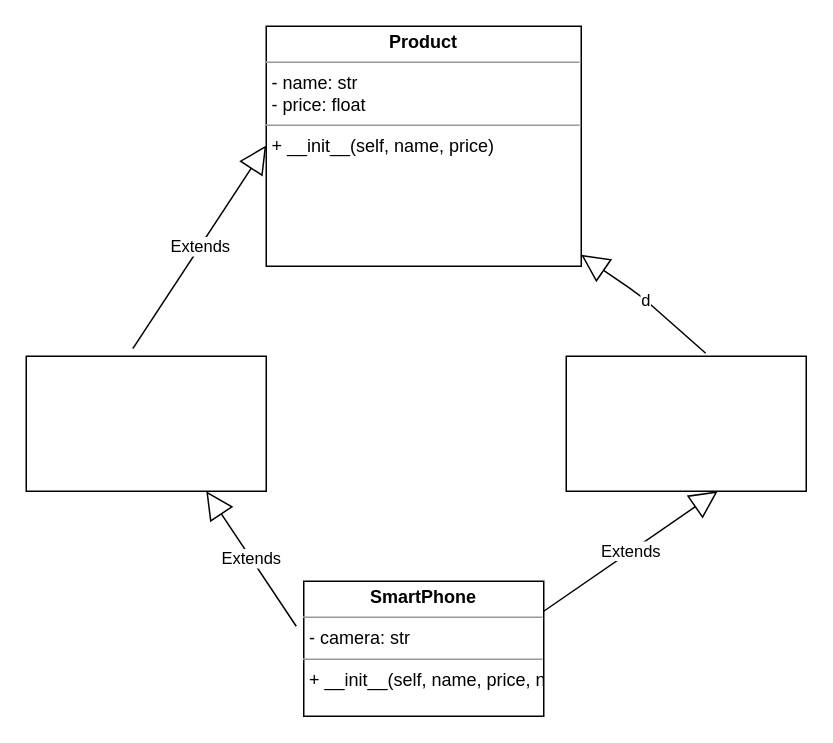
Image size: 833x743. Some labels were removed from this diagram. The shapes that lost their labels are listed below. From the top down, each one's centre as x and y in pixels, then its label:
the point at 145,423: Phone + field: Type + method(): Type
the point at 685,423: Computer - speee: Type + method(): Type
